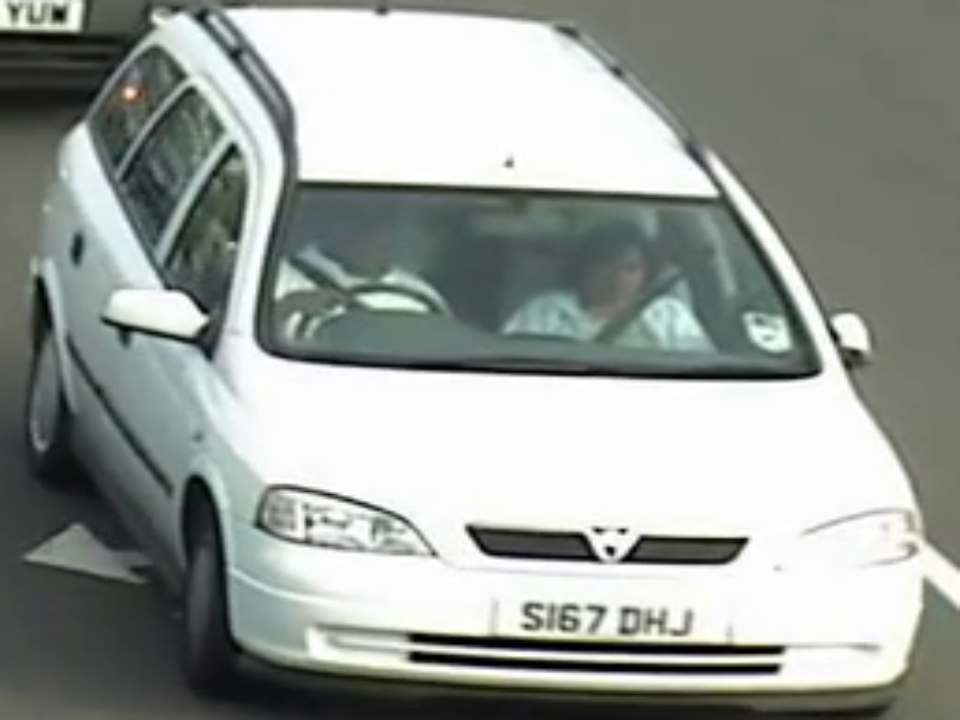TWO: (253, 166, 806, 388)
